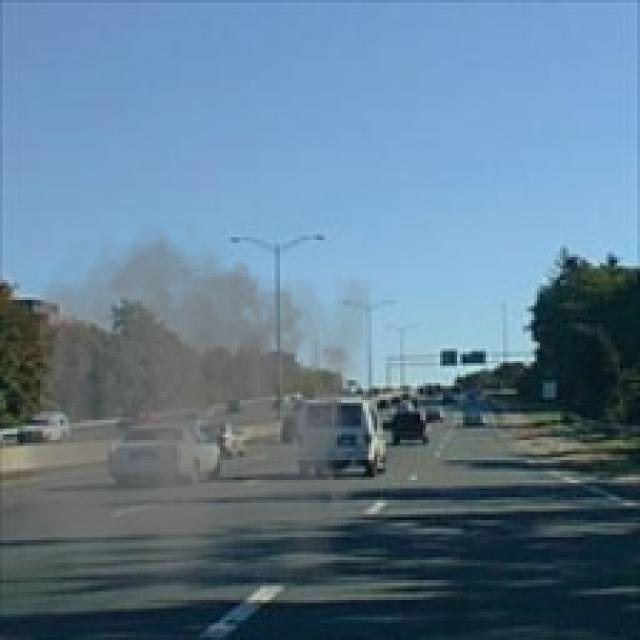Smoke: (17, 214, 372, 603)
